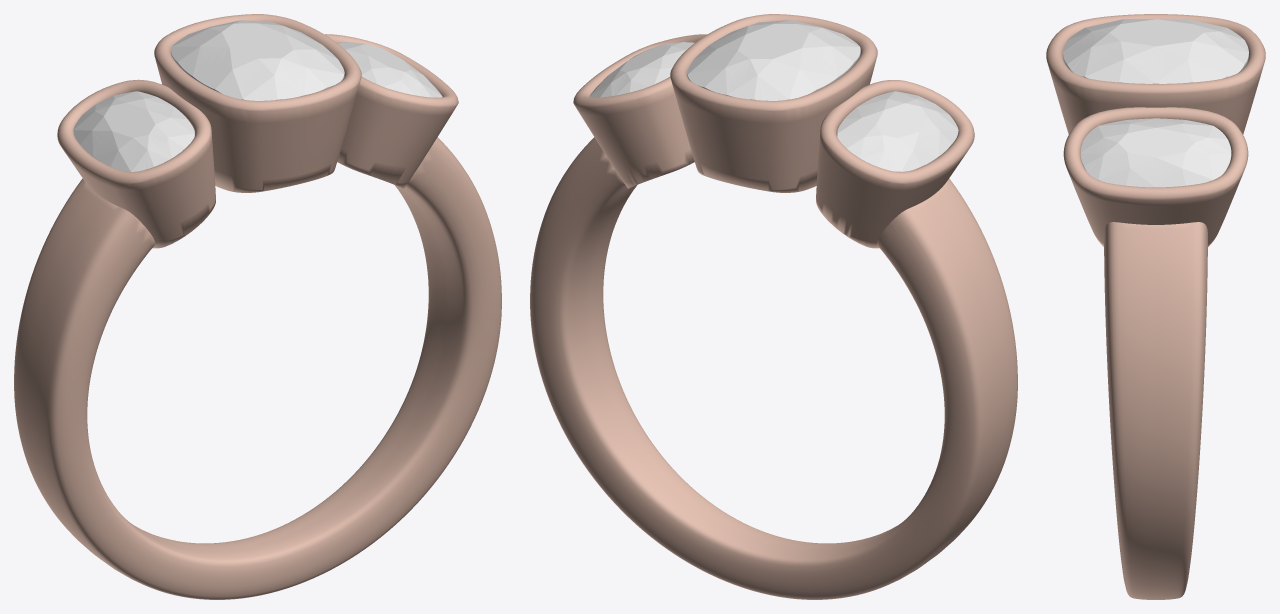
File: diamond-cushion-rosegold-bezelset-straighttaperedband-3stone.glb
3 renders of one model, left to right at view 1: azimuth 30°, elevation 25°; view 2: azimuth 150°, elevation 25°; view 3: azimuth 270°, elevation 25°, orthographic.
Visible parts, largest first — view 1: metal.002, stone.001, side.002, side.003; view 2: metal.002, stone.001, side.002, side.003; view 3: metal.002, stone.001, side.003.
Part boxes in pixels (box(x1,y1,x2,y2)): metal.002: box(14, 14, 501, 599); stone.001: box(171, 20, 344, 100); side.002: box(73, 91, 194, 171); side.003: box(337, 42, 442, 97); metal.002: box(530, 14, 1017, 599); stone.001: box(687, 20, 860, 100); side.002: box(837, 91, 958, 171); side.003: box(589, 42, 694, 97); metal.002: box(1046, 14, 1265, 599); stone.001: box(1063, 19, 1248, 83); side.003: box(1080, 118, 1231, 187).
Size of the model in its own units: 20.11 by 23.04 by 8.45.
